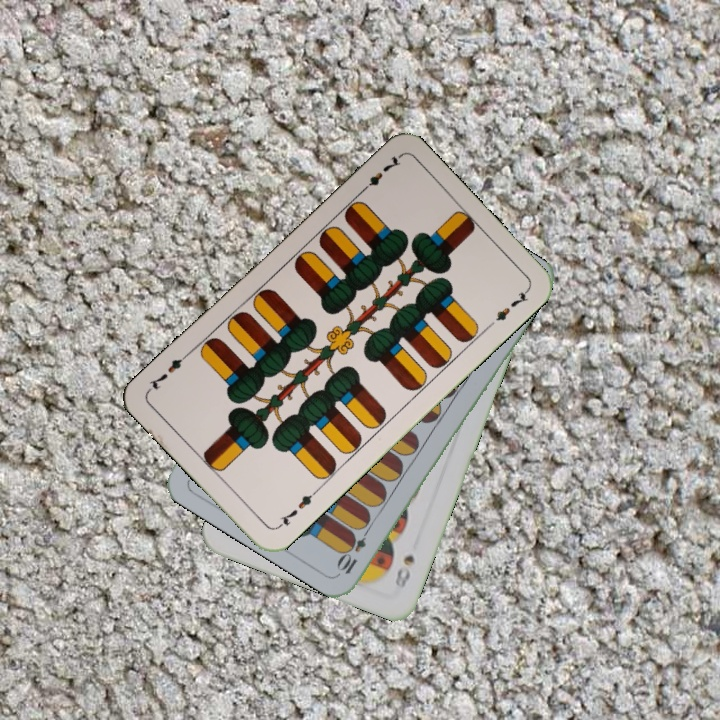E10: (335, 521, 374, 577)
E7: (355, 152, 404, 197), (273, 486, 320, 531)
S8: (391, 550, 418, 592)
